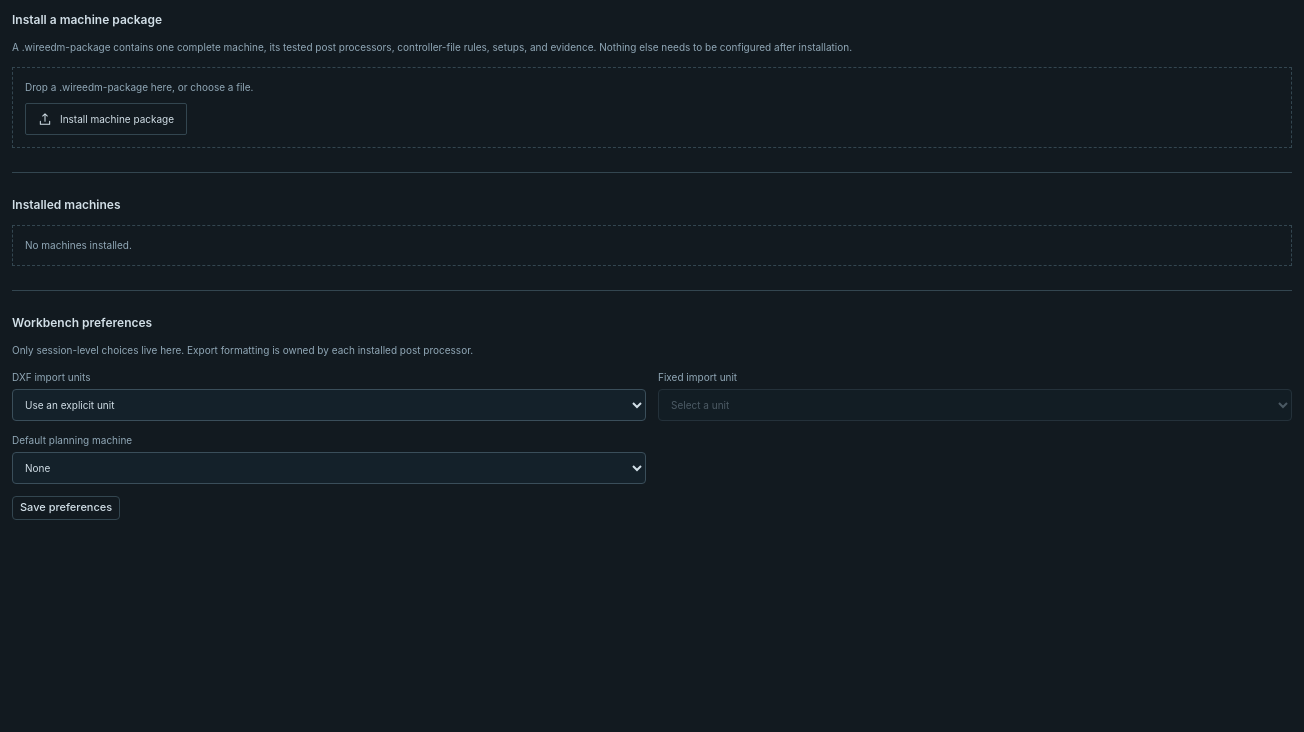
Test: MachinePostSettingsPanel › keeps only dynamic preferences and never asks for controller output settings
Select "Use an explicit unit" in the dropdown labelled "DXF import units": (329, 405) [12,389,646,421]
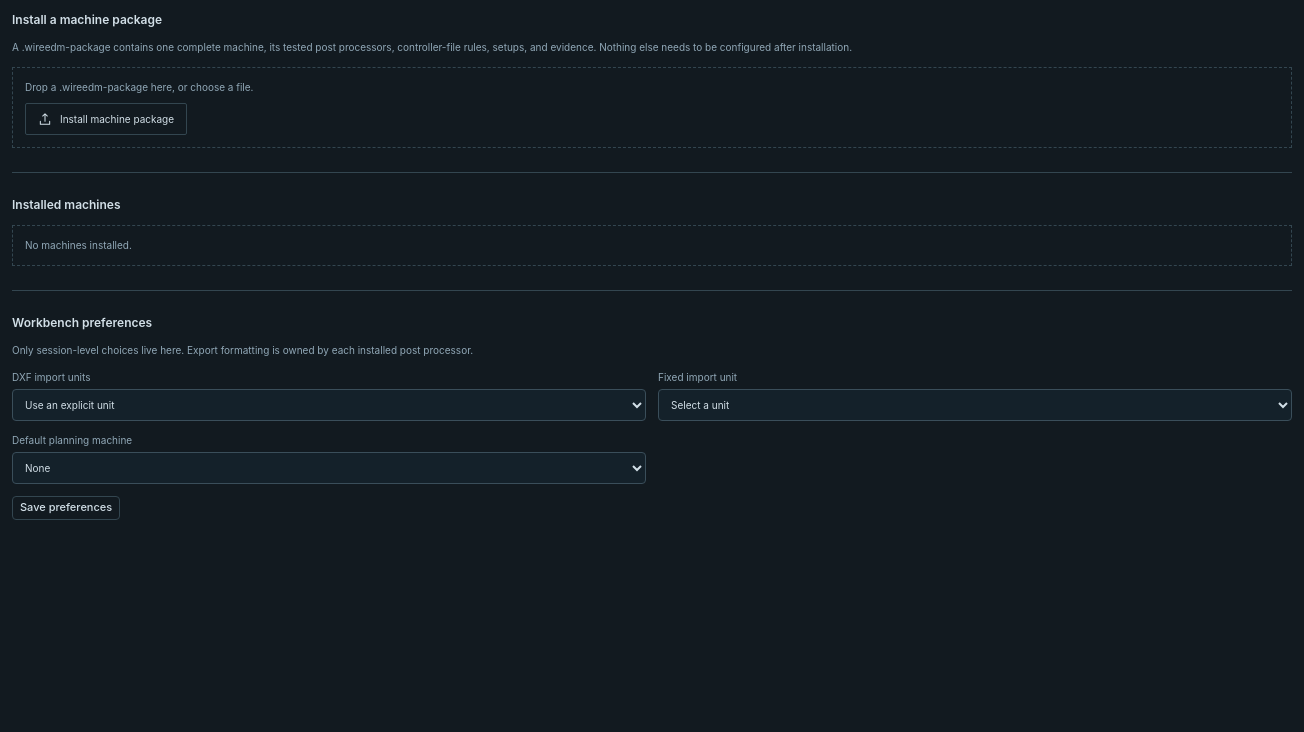
Click the button "Save preferences": (66, 508) [12,496,120,520]
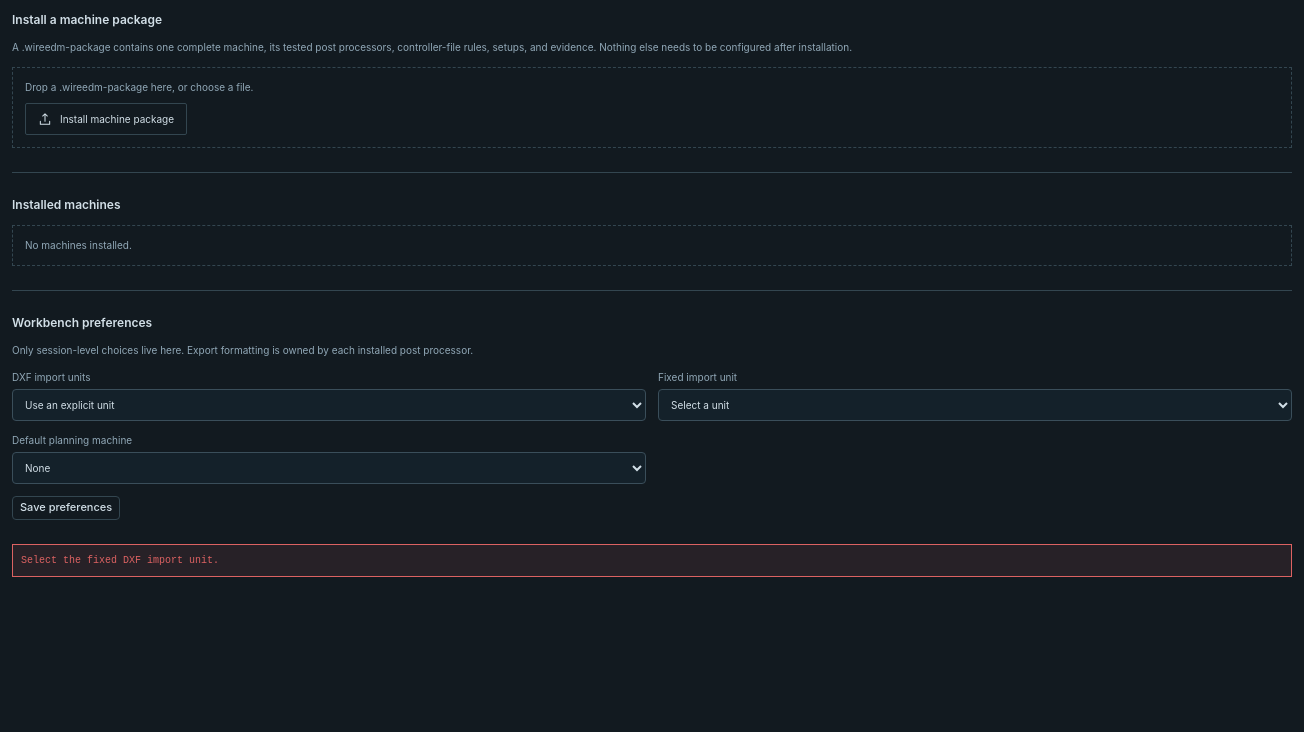
Check: the text "Select the fixed DXF import unit." is shown, box [12,544,1292,577]
